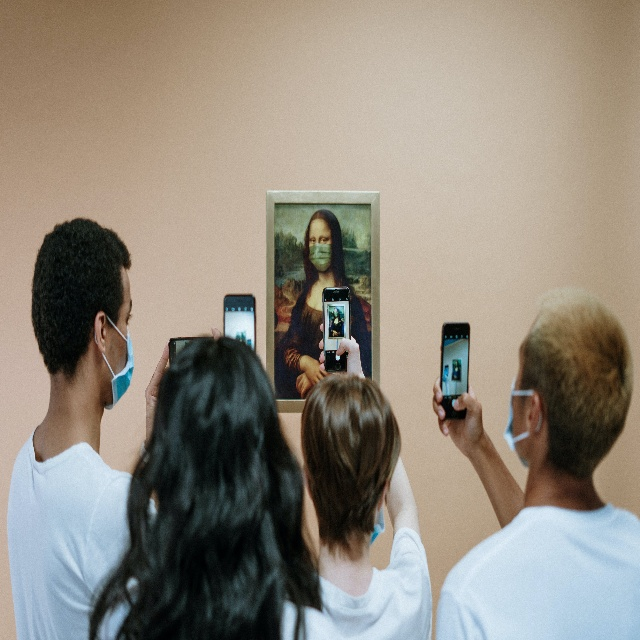Mascara: (93, 307, 134, 409), (503, 377, 543, 469), (306, 243, 333, 274)
Sin_guantes: (432, 369, 483, 457), (142, 333, 171, 453), (318, 320, 364, 378), (297, 353, 332, 400)
